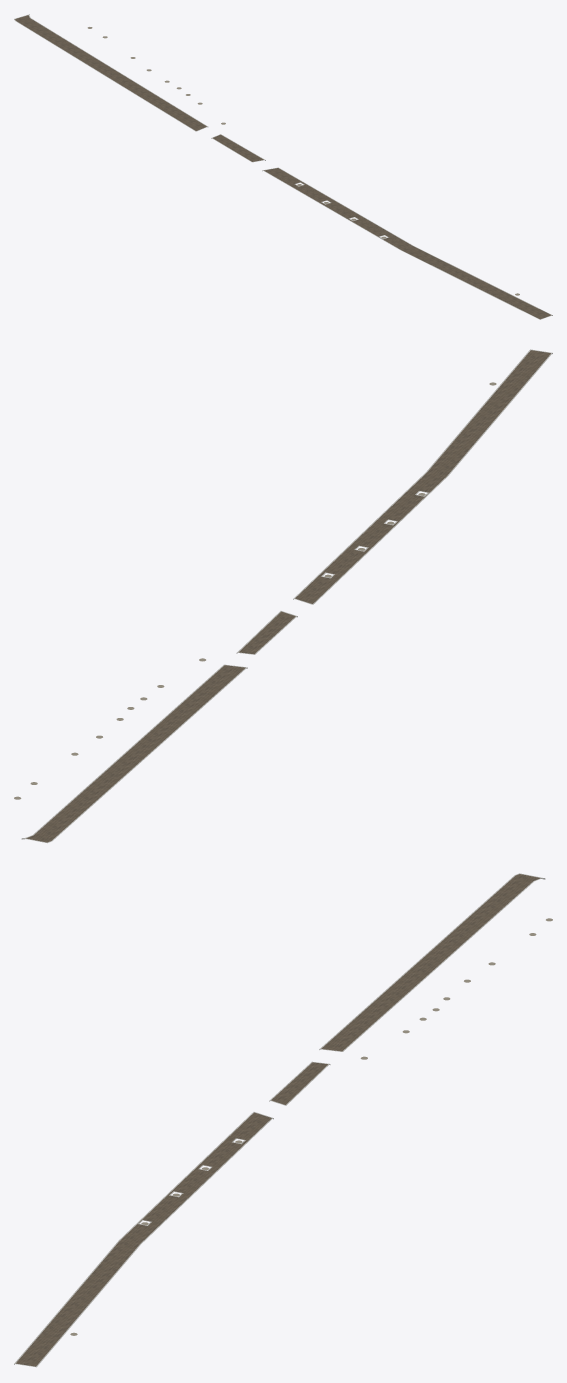
3 views of the same model, one above another, from view 1: azimuth 30°, elevation 25°; view 2: azimuth 150°, elevation 25°; view 3: azimuth 330°, elevation 25° (orthographic). The views are drawn at different scales.
Parts seen in each view (by area): view 1: geometry_0, geometry_1; view 2: geometry_0, geometry_1; view 3: geometry_0, geometry_1.
Boxes of the visible parts, <box> form: geometry_0: <box>15,15,551,319</box>; geometry_1: <box>14,14,552,319</box>; geometry_0: <box>26,350,550,842</box>; geometry_1: <box>21,349,552,843</box>; geometry_0: <box>16,874,540,1366</box>; geometry_1: <box>14,873,545,1367</box>.
Size of the model in its own units: 22.24 by 0.2071 by 167.
3 materials, 1 textured.
